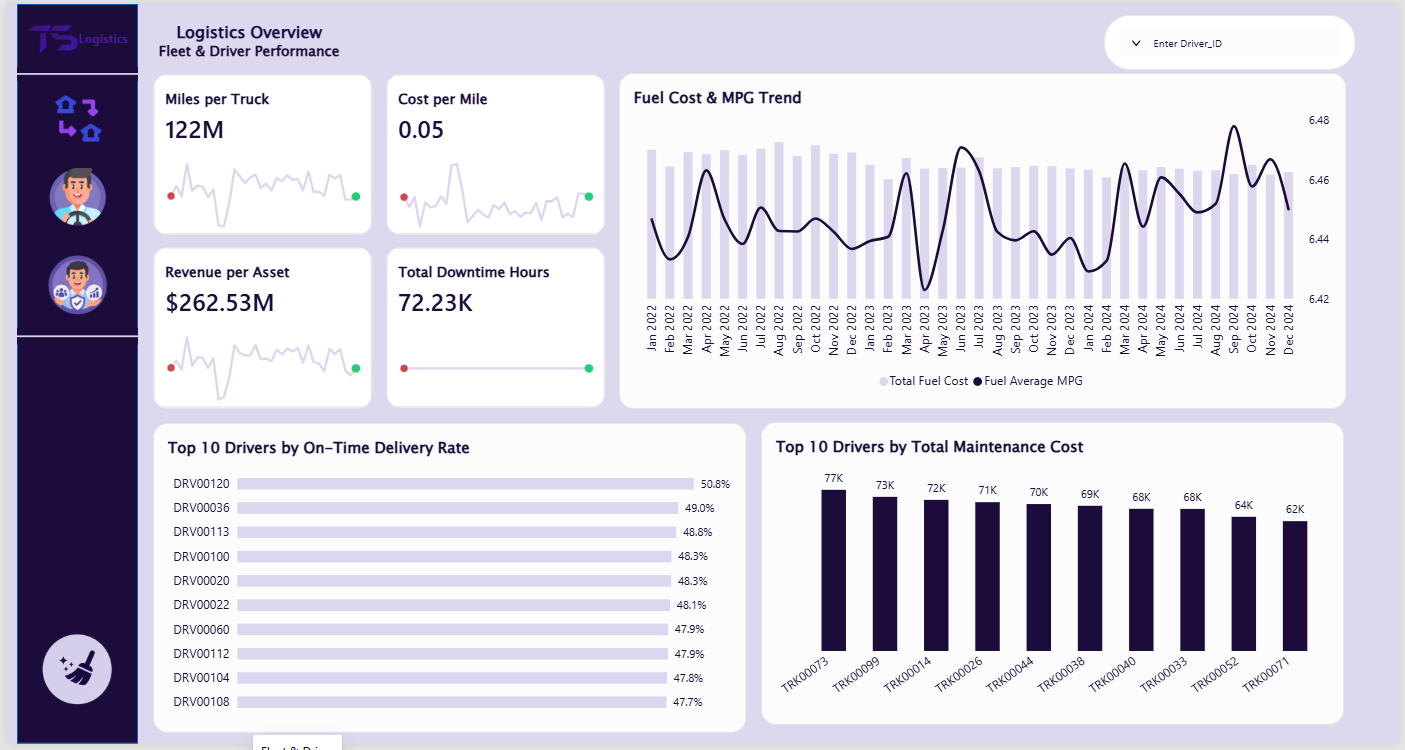

The page's visual inventory and layout, read from the dashboard file:
{"tool":"powerbi","page":{"name":"Fleet & Driver ","canvas":[1600,850],"ordinal":1},"visuals":[{"type":"shape","box":[11.8,0,139,850],"z":0,"group":"g2"},{"type":"textbox","box":[176.8,20,205,31],"z":0,"group":"g1"},{"type":"cardVisual","fields":{"Data":["Fleet utilization Measures.Revenue per Asset"]},"box":[168.1,279.3,252.2,185.6],"z":0,"group":"g3"},{"type":"textbox","box":[81.8,30,58,21],"z":1000,"group":"g2"},{"type":"textbox","box":[171.8,42.4,214.1,34.1],"z":1000,"group":"g1"},{"type":"cardVisual","fields":{"Data":["Fleet utilization Measures.Miles per Truck"]},"box":[168.1,80.5,252,185],"z":1000,"group":"g3"},{"type":"shape","box":[11.8,72,139,16],"z":2000,"group":"g2"},{"type":"cardVisual","fields":{"Data":["Maintenance Analysis Measures.Cost per Mile"]},"box":[435.9,80.5,252.2,185],"z":2000,"group":"g3"},{"type":"image","box":[40.8,189,82,66],"z":3000,"group":"g2"},{"type":"cardVisual","fields":{"Data":["Maintenance Analysis Measures.Total Downtime Hours"]},"box":[435.9,279.3,252.2,185],"z":3000,"group":"g3"},{"type":"textSlicer","fields":{"Values":["drivers.driver_id"]},"box":[1261.2,12.6,288.5,63.2],"z":4000,"group":"g3"},{"type":"image","box":[18.8,20,74,42],"z":4000,"group":"g2"},{"type":"image","box":[1457.5,19.5,80.5,50.6],"z":5000},{"type":"image","box":[52.8,96,58,70],"z":5000,"group":"g2"},{"type":"image","box":[42.8,288,77,69],"z":6000,"group":"g2"},{"type":"clusteredBarChart","title":"Top 10 Drivers by On-Time Delivery Rate","fields":{"Category":["driver_monthly_metrics.driver_id"],"Y":["Driver Performance Measures (3).On-Time Rate"]},"box":[168.3,481.2,682.4,356.5],"z":6000,"group":"g3"},{"type":"lineClusteredColumnComboChart","title":"Fuel Cost & MPG Trend","fields":{"Y":["Fuel Efficiency Measures.Total Fuel Cost"],"Category":["Calendar.Month Year"],"Y2":["Fuel Efficiency Measures.Fuel Average MPG"]},"box":[703.6,79.5,836.1,385.5],"z":7000,"group":"g3"},{"type":"shape","box":[11.8,372,139,19],"z":7000,"group":"g2"},{"type":"clusteredColumnChart","title":"Top 10 Drivers by Total Maintenance Cost","fields":{"Category":["trucks.truck_id"],"Y":["Route profitability Measures.Total Maintenance Cost"]},"box":[867.5,480.7,669.9,348.2],"z":8000,"group":"g3"},{"type":"group","id":"g1","title":"Group 1","box":[171.8,20,214.1,56.5],"z":9000,"group":"g3"},{"type":"group","id":"g2","title":"Group 2","box":[11.8,0,139,850],"z":10000,"group":"g3"},{"type":"group","id":"g3","title":"Group 3","box":[11.8,0,1537.9,850],"z":10001},{"type":"image","box":[23.3,716.1,116.1,97.7],"z":15000,"group":"g2"}]}

Visuals, with their boxes in screenshot pixels (x1, y1, x2, y2), scaled from the page's 1600x850 canvas onto the 1405x750 screenshot:
shape: (10,0,132,749)
textbox: (155,18,335,45)
cardVisual - Fleet utilization Measures.Revenue per Asset: (148,246,369,410)
textbox: (72,26,123,45)
textbox: (151,37,339,68)
cardVisual - Fleet utilization Measures.Miles per Truck: (148,71,369,234)
shape: (10,64,132,78)
cardVisual - Maintenance Analysis Measures.Cost per Mile: (383,71,604,234)
image: (36,167,108,225)
cardVisual - Maintenance Analysis Measures.Total Downtime Hours: (383,246,604,410)
textSlicer - drivers.driver_id: (1107,11,1361,67)
image: (17,18,81,55)
image: (1280,17,1351,62)
image: (46,85,97,146)
image: (38,254,105,315)
"Top 10 Drivers by On-Time Delivery Rate" clusteredBarChart: (148,425,747,739)
"Fuel Cost & MPG Trend" lineClusteredColumnComboChart: (618,70,1352,410)
shape: (10,328,132,345)
"Top 10 Drivers by Total Maintenance Cost" clusteredColumnChart: (762,424,1350,731)
"Group 1" group: (151,18,339,68)
"Group 2" group: (10,0,132,749)
"Group 3" group: (10,0,1361,749)
image: (20,632,122,718)
